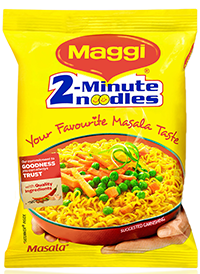maggi: (2, 8, 198, 268)
